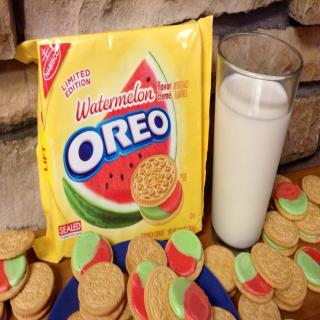Cookie: (66, 173, 320, 320), (0, 228, 55, 320), (129, 151, 183, 226)
